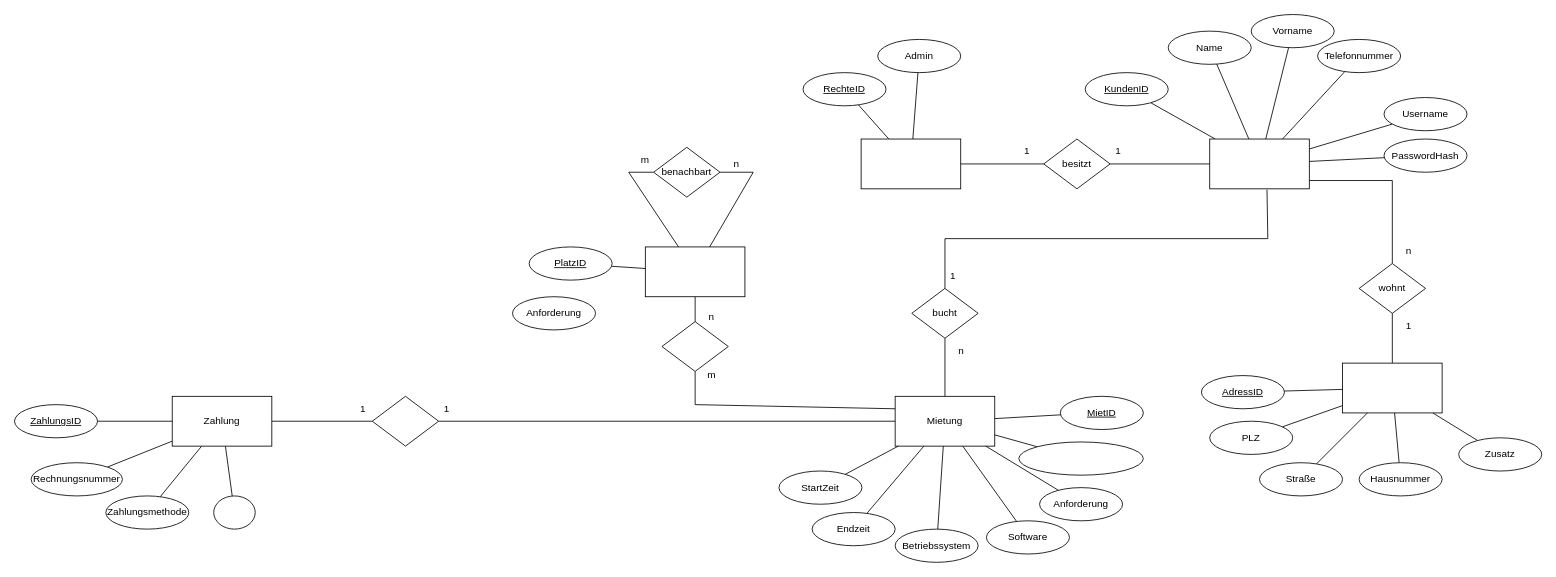
Image size: 1556x577. Some labels were removed from this diagram. The centre of each missing label's shape, as x and y in pixels:
Adresse: the point at 1392,387
Arbeitsplatz: the point at 694,271
Berechtigung: the point at 910,163
bezahlt: the point at 405,420
enthält: the point at 694,346
Erfolgt: the point at 234,512
Kunde: the point at 1259,163
MitgebrachteHardware: the point at 1080,458
